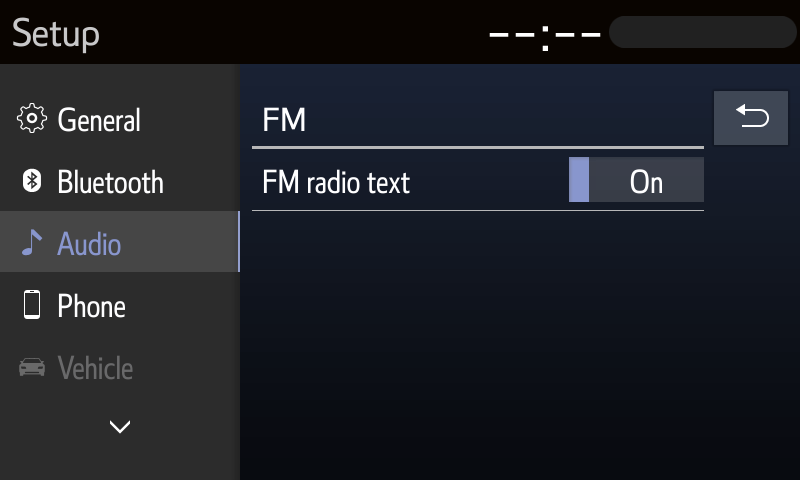touchPart: (250, 137, 707, 221), (5, 157, 166, 197), (16, 95, 148, 138), (711, 86, 788, 152), (14, 287, 130, 326), (102, 412, 145, 448)
untouchPart: (1, 207, 240, 275), (465, 11, 796, 54), (8, 347, 143, 395), (13, 6, 101, 53)
